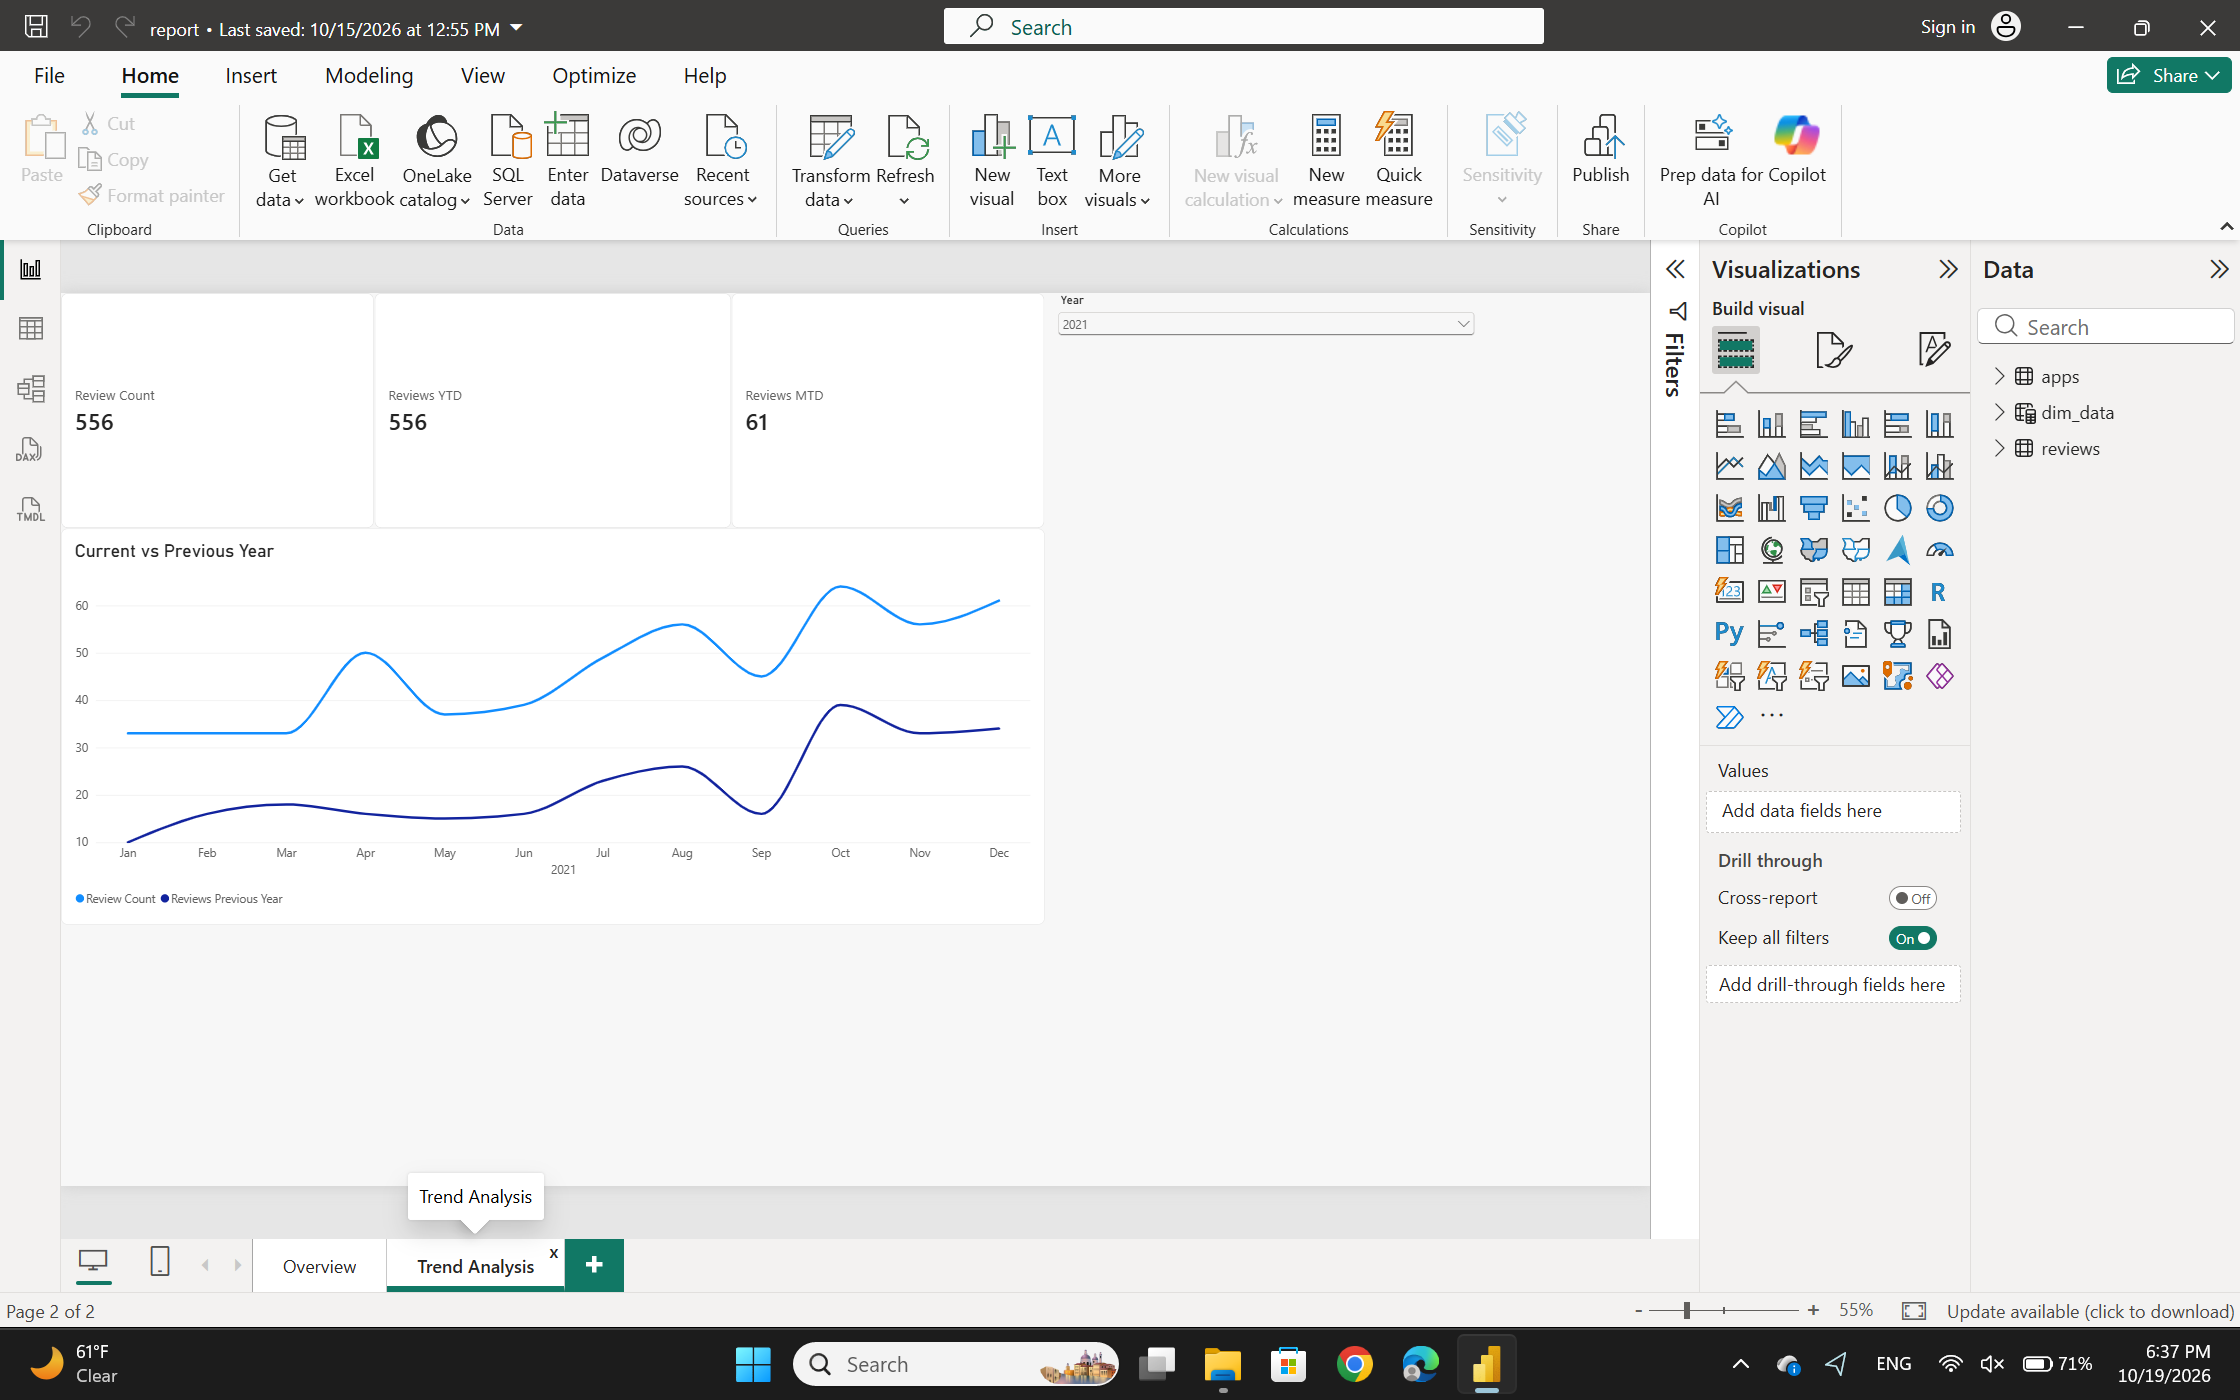

The page's visual inventory and layout, read from the dashboard file:
{"tool":"powerbi","page":{"name":"Trend Analysis","canvas":[1920,1080],"ordinal":1},"visuals":[{"type":"lineChart","title":"Current vs Previous Year","fields":{"Category":["DateTable.Year","DateTable.Month"],"Y":["reviews.Review Count","reviews.Reviews Previous Year"]},"box":[0,284.6,1189,478.5],"z":0},{"type":"cardVisual","fields":{"Data":["reviews.Review Count"]},"box":[0,0,378.8,284.6],"z":1},{"type":"cardVisual","fields":{"Data":["reviews.Reviews YTD"]},"box":[378.8,0,431.4,284.6],"z":2},{"type":"cardVisual","fields":{"Data":["reviews.Reviews MTD"]},"box":[810.2,0,378.8,284.6],"z":3},{"type":"slicer","fields":{"Values":["DateTable.Year"]},"box":[1199.8,0,512.7,284.3],"z":4}]}

Visuals, with their boxes on the page's 1920x1080 design canvas (x1, y1, x2, y2). These are canvas units, not pixel positions in the 2240x1400 screenshot, which may show the page scaled, cropped or inside an application window:
"Current vs Previous Year" lineChart: box(0, 285, 1189, 763)
cardVisual - reviews.Review Count: box(0, 0, 379, 285)
cardVisual - reviews.Reviews YTD: box(379, 0, 810, 285)
cardVisual - reviews.Reviews MTD: box(810, 0, 1189, 285)
slicer - DateTable.Year: box(1200, 0, 1712, 284)
